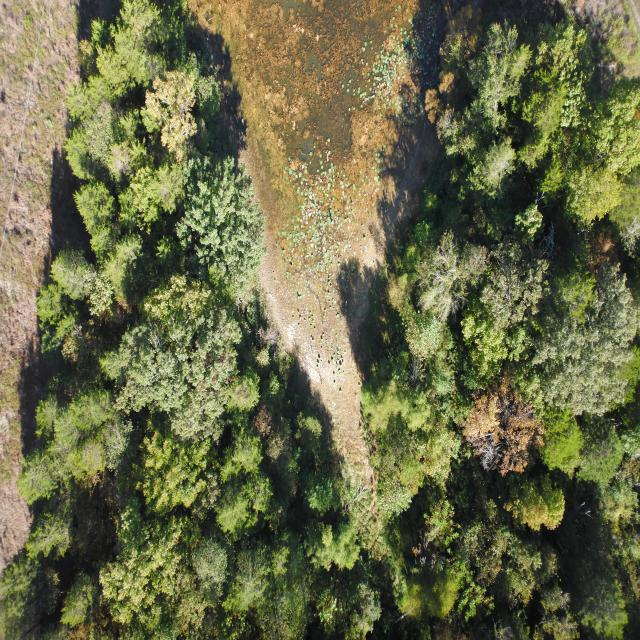Area of Interest: (7, 7, 637, 640)
